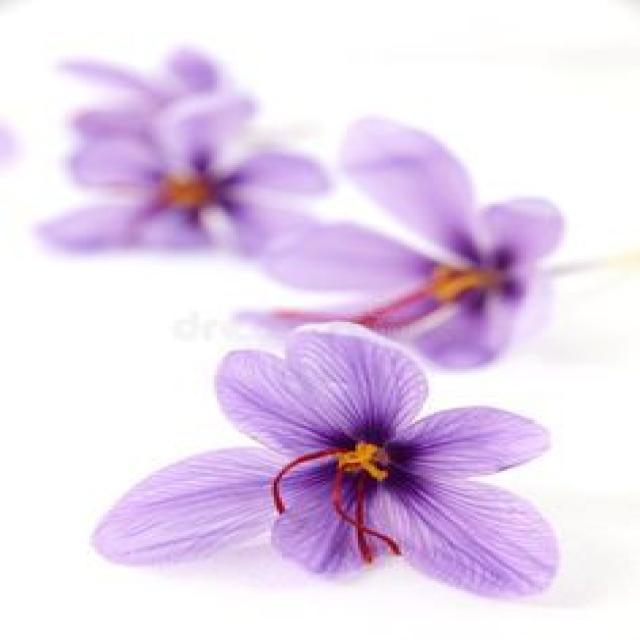Flower: (93, 324, 556, 596), (240, 111, 566, 372), (34, 88, 332, 266)
stigma: (267, 272, 462, 326), (331, 466, 409, 557), (270, 446, 351, 514), (351, 471, 376, 561)
